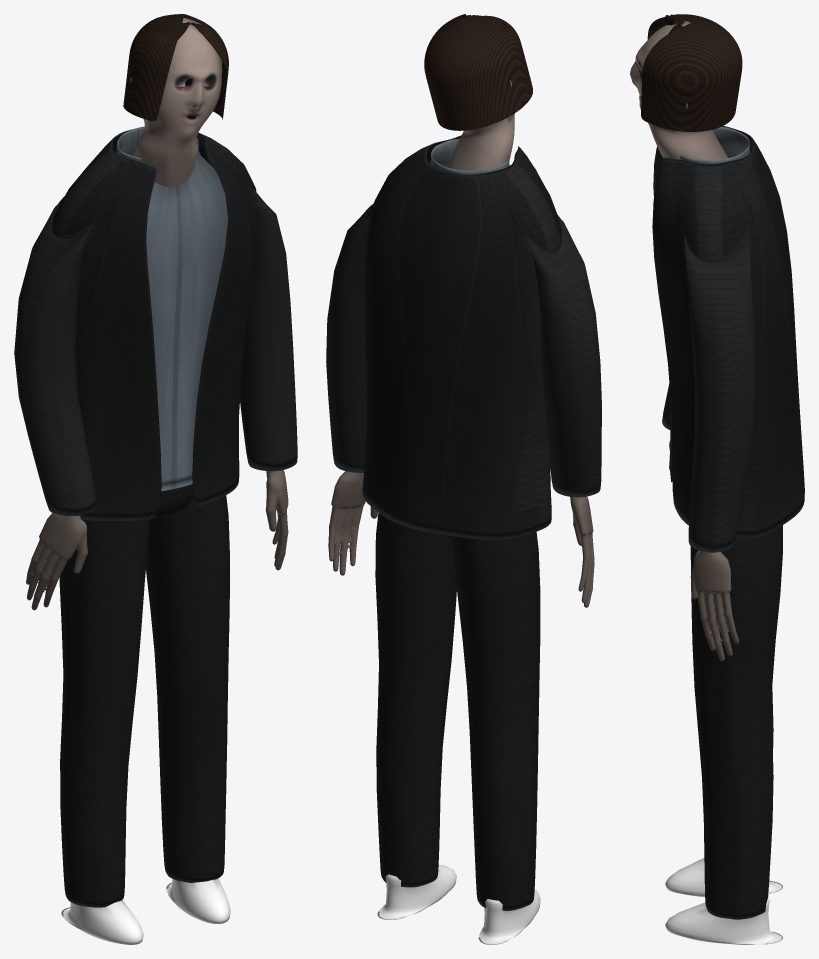
File: Flawed_04_HombreTraje.fbx
3 renders of one model, left to right at view 1: azimuth 30°, elevation 25°; view 2: azimuth 150°, elevation 25°; view 3: azimuth 270°, elevation 25°, orthographic. The views are drawn at different scales.
Visible parts, largest first — view 1: FL_Saco, FL_Pantalon, FL_CamisaInterior, FL_Cabeza, FL_Brazos, FL_Cabello, FL_Zapatos; view 2: FL_Saco, FL_Pantalon, FL_Cabello, FL_Brazos, FL_Zapatos, FL_Cabeza, FL_CamisaInterior; view 3: FL_Saco, FL_Pantalon, FL_Cabello, FL_Zapatos, FL_Brazos, FL_Cabeza, FL_CamisaInterior.
Boxes of the visible parts, x1,y1,x2,y2 form: FL_Saco: [14, 129, 297, 520]; FL_Pantalon: [59, 484, 229, 907]; FL_CamisaInterior: [116, 126, 228, 491]; FL_Cabeza: [130, 18, 222, 186]; FL_Brazos: [26, 470, 288, 610]; FL_Cabello: [123, 14, 228, 121]; FL_Zapatos: [61, 878, 230, 944]; FL_Saco: [326, 135, 601, 539]; FL_Pantalon: [375, 513, 540, 910]; FL_Cabello: [424, 14, 532, 130]; FL_Brazos: [328, 471, 594, 607]; FL_Zapatos: [377, 865, 540, 944]; FL_Cabeza: [448, 80, 514, 170]; FL_CamisaInterior: [430, 138, 509, 174]; FL_Saco: [652, 126, 804, 552]; FL_Pantalon: [690, 525, 782, 919]; FL_Cabello: [641, 14, 742, 131]; FL_Zapatos: [665, 858, 782, 944]; FL_Brazos: [669, 441, 739, 661]; FL_Cabeza: [630, 20, 727, 160]; FL_CamisaInterior: [679, 126, 750, 164].
Size of the model in its own units: 0.5803 by 1.83 by 0.3231.
Materials: 7 (6 with a texture image).
